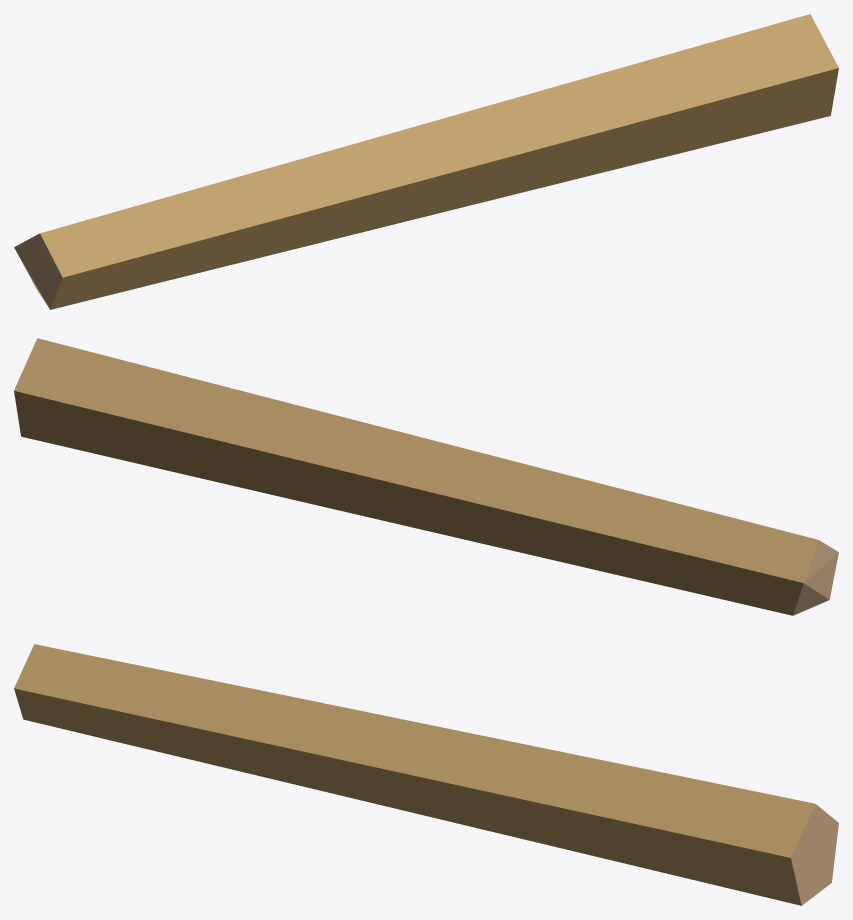
The model's file is Oak_Log_01.fbx.
3 renders of one model, top to bottom at view 1: azimuth 30°, elevation 25°; view 2: azimuth 150°, elevation 25°; view 3: azimuth 330°, elevation 25°, orthographic.
Parts seen in each view (by area): view 1: Oak_Log_01; view 2: Oak_Log_01; view 3: Oak_Log_01.
Boxes of the visible parts, x1=… form: Oak_Log_01: x1=14, y1=14, x2=838, y2=309; Oak_Log_01: x1=14, y1=338, x2=838, y2=615; Oak_Log_01: x1=14, y1=644, x2=838, y2=905.
Size of the model in its own units: 364 by 39.74 by 44.17.
